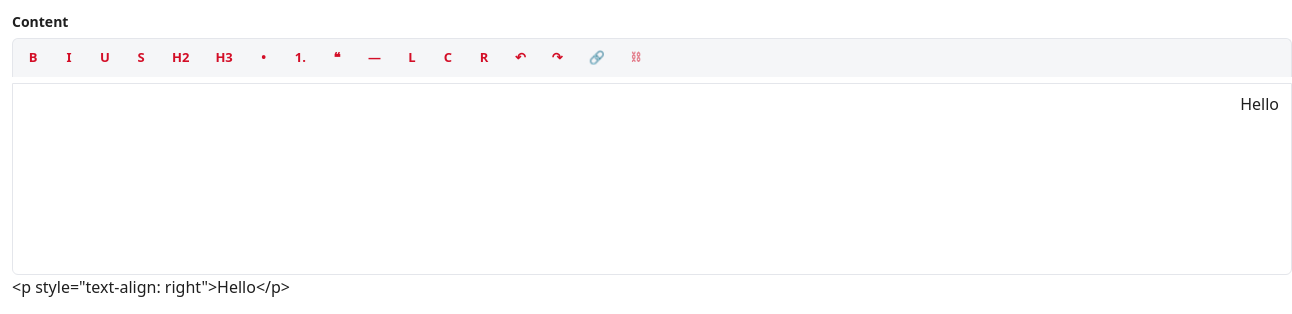
RichTextEditor › aligns paragraphs left, centre and right
The width and height of the screenshot is (1292, 314).
Click the button named "Align centre". click: (448, 58)
box: [432, 43, 464, 72]
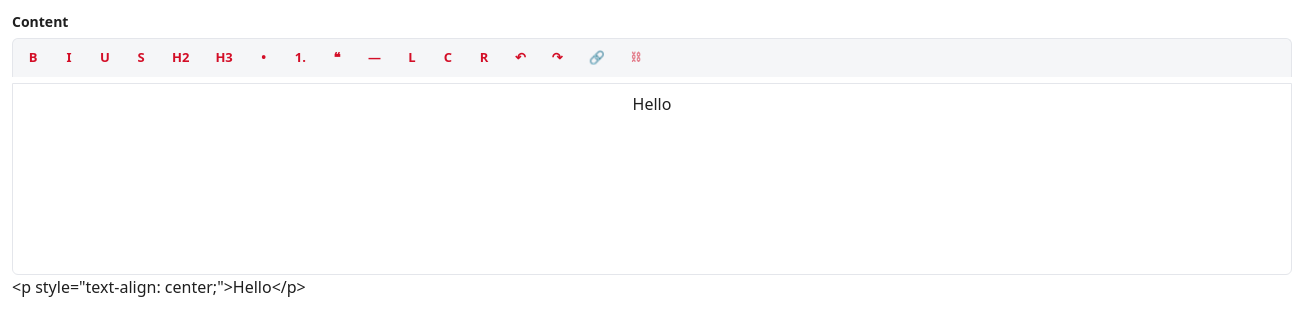
expect the text "<p style=\"text-align: center;\">Hello</p>" is shown: met, box [12, 276, 306, 298]
Click the button named "Align left". click: (412, 58)
box: [396, 43, 428, 72]
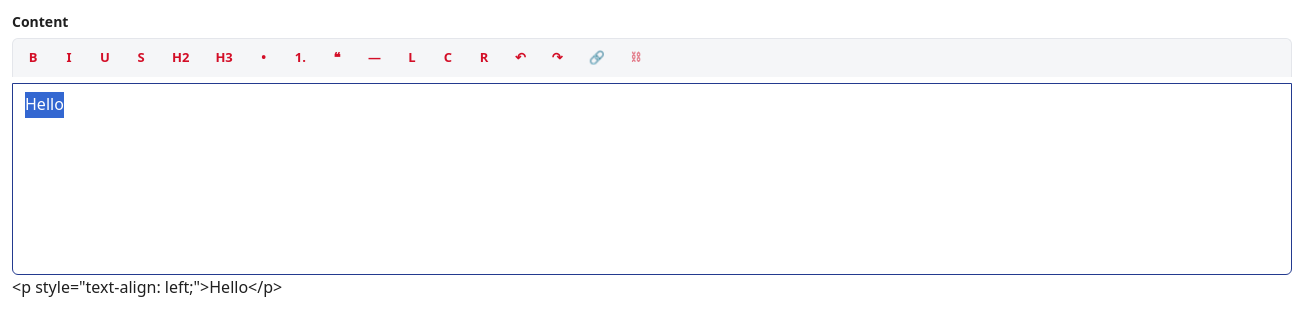
expect the text "<p style=\"text-align: left;\">Hello</p>" is shown: met, box [12, 276, 282, 298]
